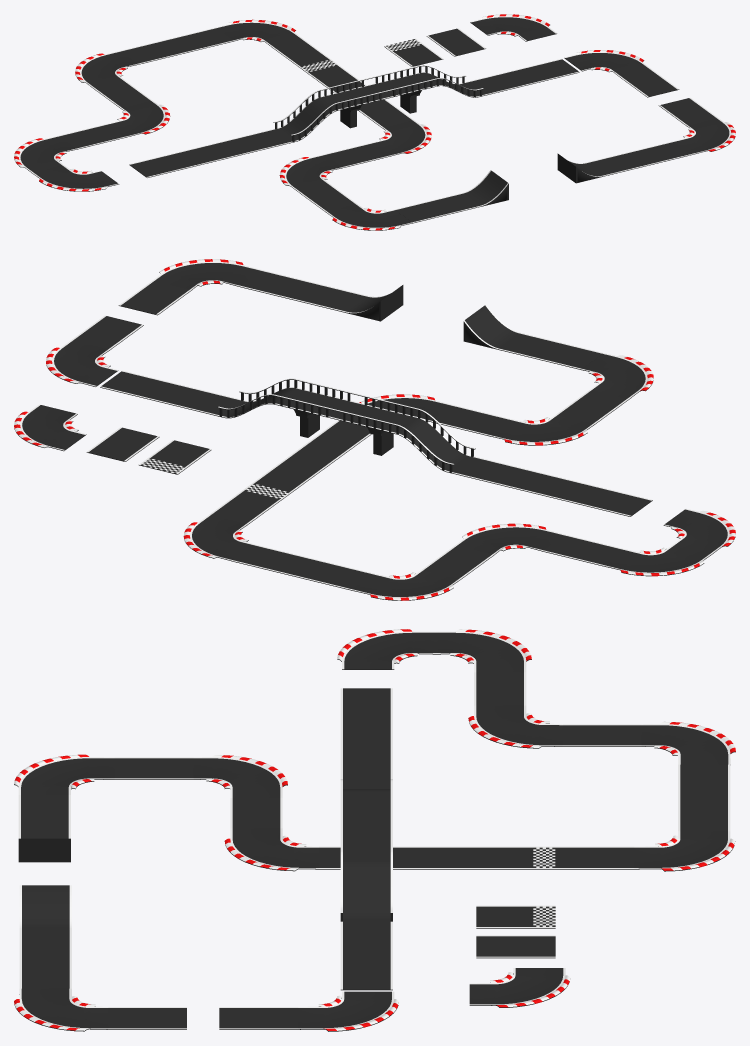
Rendered from racetrack.obj.
3 renders of one model, top to bottom at view 1: azimuth 30°, elevation 25°; view 2: azimuth 150°, elevation 25°; view 3: azimuth 270°, elevation 25°, orthographic. The views are drawn at different scales.
Parts seen in each view (by area): view 1: Cube.004, Cube.033, Cube.026, Cube.008, Cube.014, Cube.011, Cube.022, Cube.002, Cube.016, Cube.013, Cube.024, Cube.007 (+21 smaller); view 2: Cube.004, Cube.024, Cube.007, Cube.013, Cube.002, Cube.016, Cube.033, Cube.014, Cube.011, Cube.026, Cube.008, Cube.018 (+22 smaller); view 3: Cube.004, Cube.011, Cube.016, Cube.014, Cube.002, Cube.008, Cube.007, Cube.022, Cube.003, Cube.013, Cube.024, Cube.033 (+22 smaller).
Boxes of the visible parts, bbox=[...] form: Cube.004: bbox=[225, 65, 531, 154]; Cube.033: bbox=[470, 14, 557, 41]; Cube.026: bbox=[325, 204, 412, 230]; Cube.008: bbox=[32, 165, 119, 191]; Cube.014: bbox=[564, 50, 650, 76]; Cube.011: bbox=[216, 19, 302, 46]; Cube.022: bbox=[369, 120, 431, 157]; Cube.002: bbox=[107, 100, 170, 137]; Cube.016: bbox=[673, 118, 735, 155]; Cube.013: bbox=[75, 51, 138, 87]; Cube.024: bbox=[279, 154, 342, 191]; Cube.007: bbox=[14, 135, 77, 172]; Cube.004: bbox=[159, 378, 534, 487]; Cube.024: bbox=[485, 415, 594, 445]; Cube.007: bbox=[601, 545, 710, 576]; Cube.013: bbox=[351, 570, 460, 600]; Cube.002: bbox=[456, 523, 564, 554]; Cube.016: bbox=[153, 259, 261, 289]; Cube.033: bbox=[14, 404, 86, 451]; Cube.014: bbox=[46, 340, 118, 386]; Cube.011: bbox=[183, 515, 255, 561]; Cube.026: bbox=[581, 353, 653, 399]; Cube.008: bbox=[663, 508, 735, 554]; Cube.018: bbox=[463, 305, 544, 355]; Cube.004: bbox=[340, 755, 392, 956]; Cube.011: bbox=[634, 831, 735, 871]; Cube.016: bbox=[14, 988, 108, 1031]; Cube.014: bbox=[298, 991, 398, 1031]; Cube.002: bbox=[468, 705, 562, 748]; Cube.008: bbox=[337, 629, 437, 669]; Cube.007: bbox=[437, 629, 531, 672]; Cube.022: bbox=[224, 828, 318, 871]; Cube.003: bbox=[19, 885, 71, 941]; Cube.013: bbox=[641, 721, 735, 764]; Cube.024: bbox=[193, 755, 287, 797]; Cube.033: bbox=[469, 968, 570, 1007].
Bounding box in the file's own units: 257 × 13.68 × 195.
